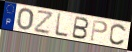B: (71, 16, 90, 41)
C: (108, 23, 127, 46)
L: (54, 12, 69, 39)
O: (16, 7, 35, 31)
P: (90, 19, 109, 42)
Z: (34, 10, 55, 35)
